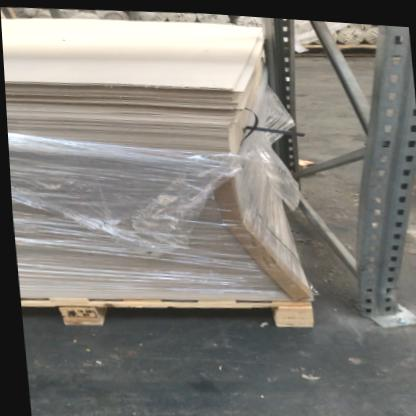vertical_damage: (342, 234, 416, 332)
